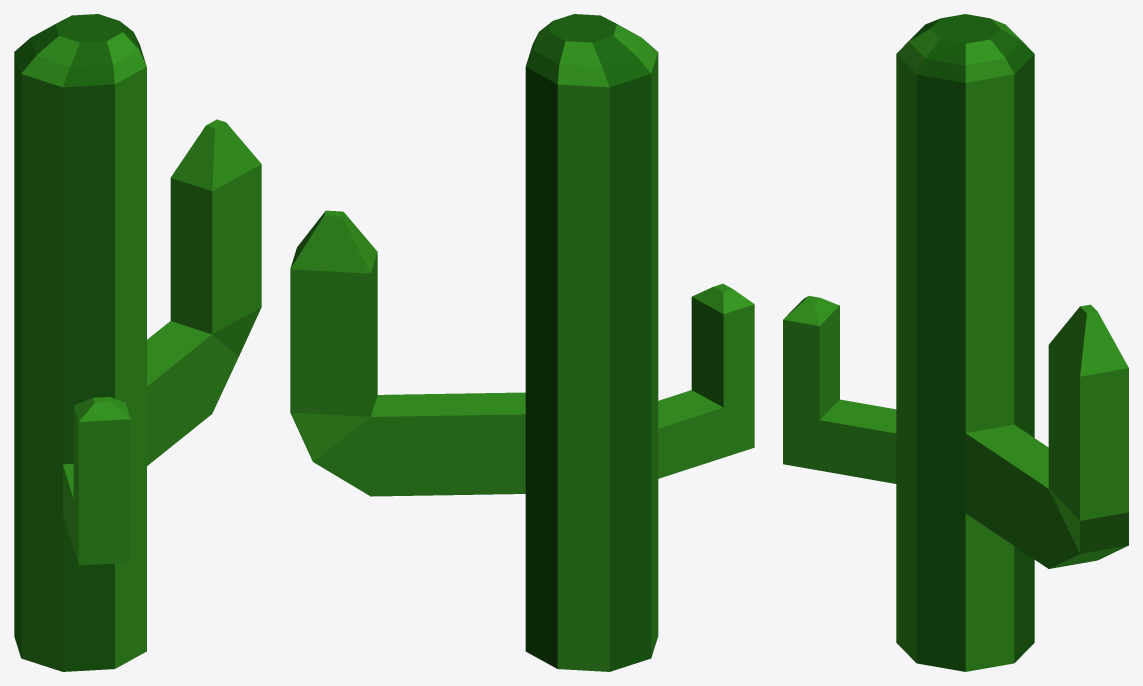
The model's file is Cactus.dae.
3 renders of one model, left to right at view 1: azimuth 30°, elevation 25°; view 2: azimuth 150°, elevation 25°; view 3: azimuth 270°, elevation 25°, orthographic.
Parts seen in each view (by area): view 1: Cylinder; view 2: Cylinder; view 3: Cylinder.
Part boxes in pixels (<box>): Cylinder: <box>14,14,261,671</box>; Cylinder: <box>290,14,754,671</box>; Cylinder: <box>783,14,1128,671</box>.
Size of the model in its own units: 4.02 by 3.74 by 7.36.
